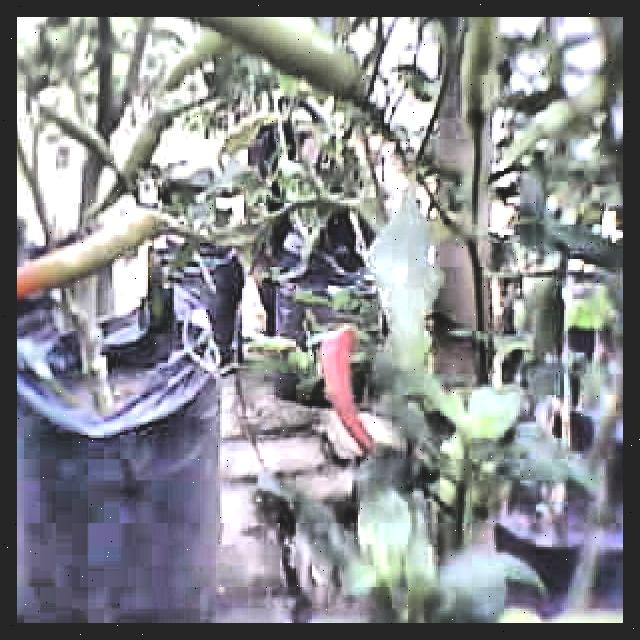Cabai: (17, 207, 204, 350), (311, 315, 381, 463)
